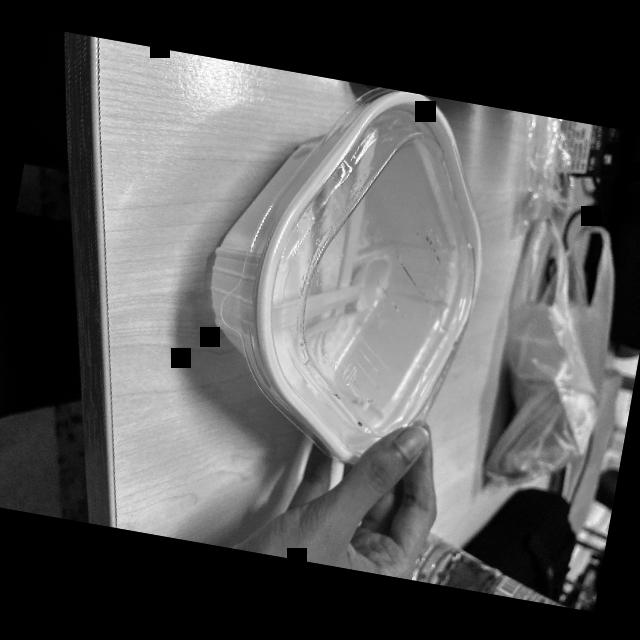plastic_box: (172, 62, 516, 491)
